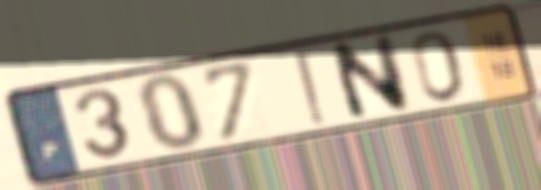0: (131, 71, 210, 154), (409, 28, 467, 104)
3: (71, 86, 133, 163)
7: (199, 56, 258, 145)
I: (290, 49, 333, 129)
N: (324, 31, 414, 124)
